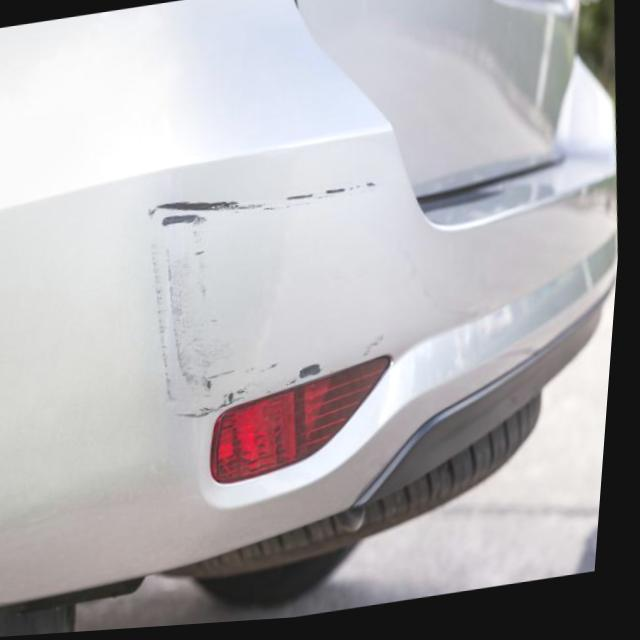Scratch: (146, 229, 271, 420), (147, 177, 386, 211), (151, 210, 212, 227), (291, 358, 321, 380), (361, 331, 384, 355)
